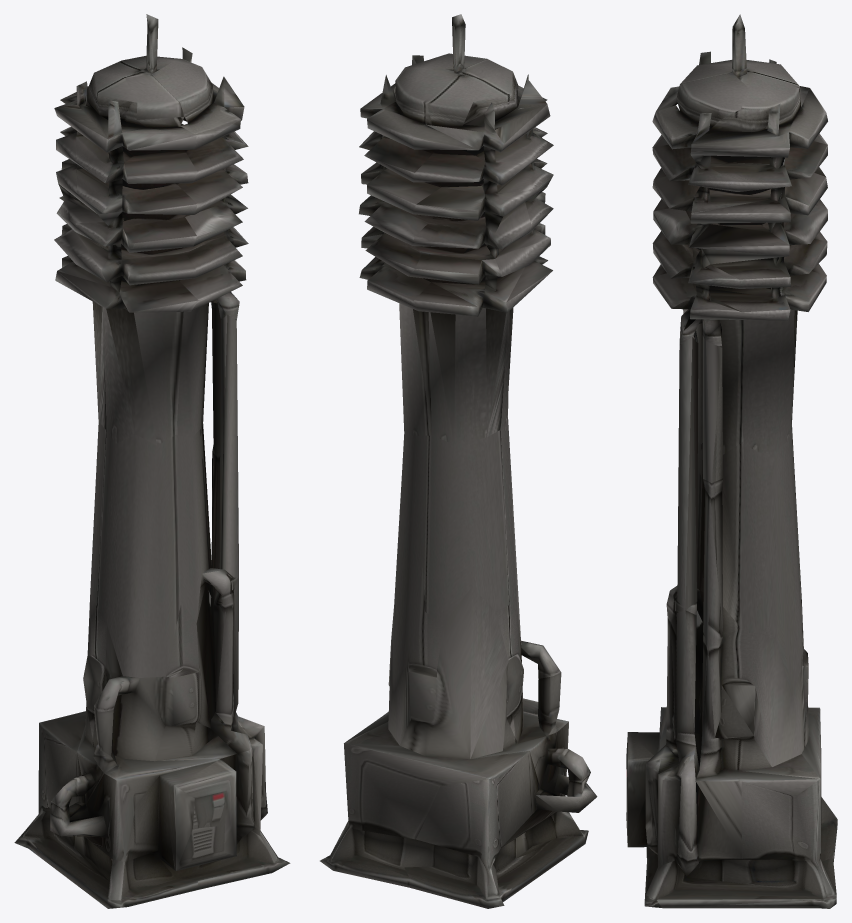
File: vaporator.glb
The picture shows the model from 3 angles, left to right: view 1: azimuth 30°, elevation 25°; view 2: azimuth 150°, elevation 25°; view 3: azimuth 270°, elevation 25°; orthographic projection.
Bounding box in the file's own units: 0.259 × 1 × 0.2256.
1 material, 1 textured.
